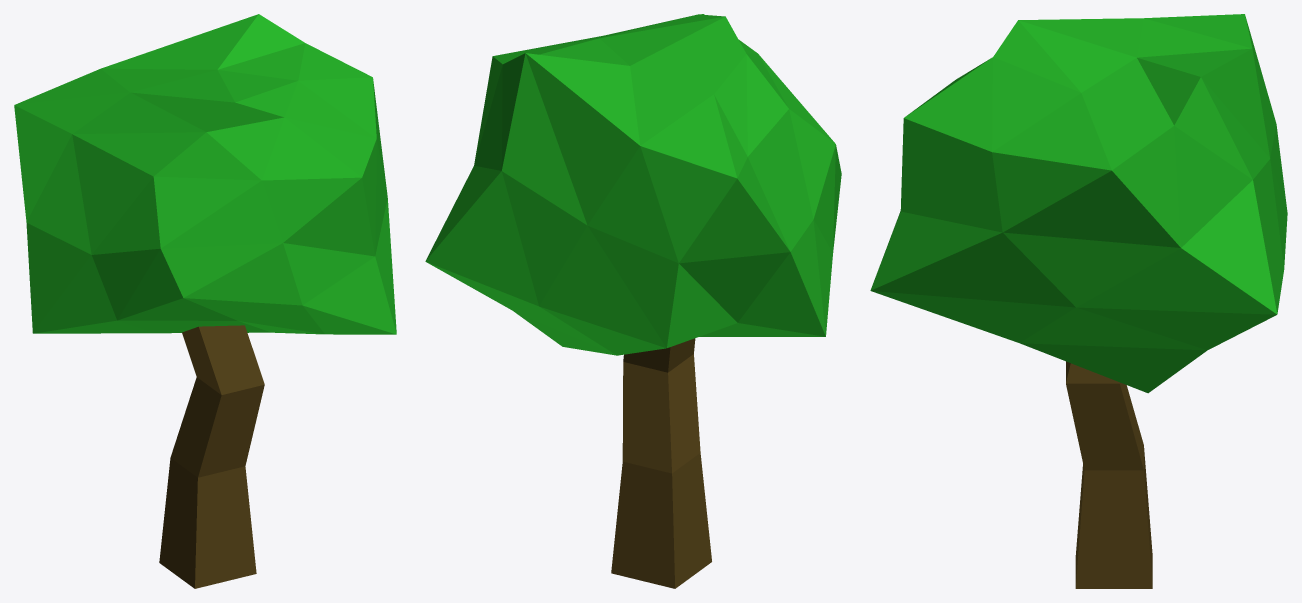
Rendered from Tree_1.fbx.
The picture shows the model from 3 angles, left to right: view 1: azimuth 30°, elevation 25°; view 2: azimuth 150°, elevation 25°; view 3: azimuth 270°, elevation 25°; orthographic projection. The views are drawn at different scales.
Parts seen in each view (by area): view 1: Icosphere.003, Cube.001; view 2: Icosphere.003, Cube.001; view 3: Icosphere.003, Cube.001.
Boxes of the visible parts, bbox=[...] form: Icosphere.003: bbox=[14, 14, 396, 334]; Cube.001: bbox=[159, 325, 264, 588]; Icosphere.003: bbox=[425, 14, 841, 355]; Cube.001: bbox=[611, 338, 711, 588]; Icosphere.003: bbox=[870, 14, 1287, 393]; Cube.001: bbox=[1066, 361, 1152, 588].
Bounding box in the file's own units: 399 × 580 × 404.
